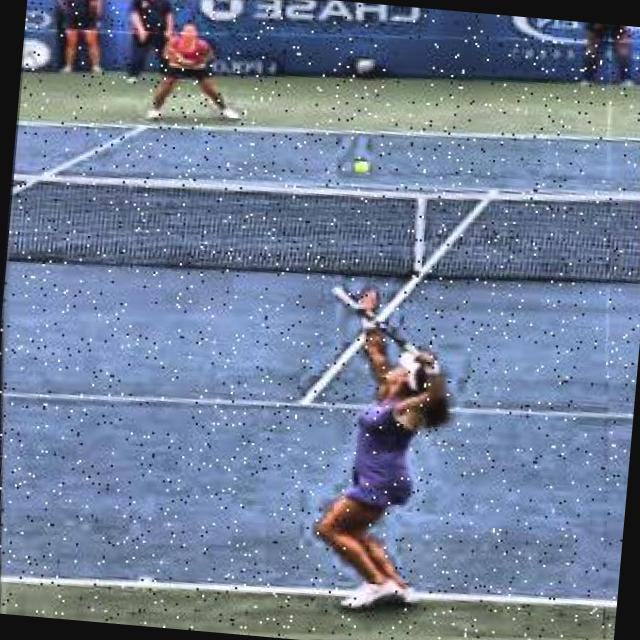Tennis Ball: (349, 159, 376, 178)
